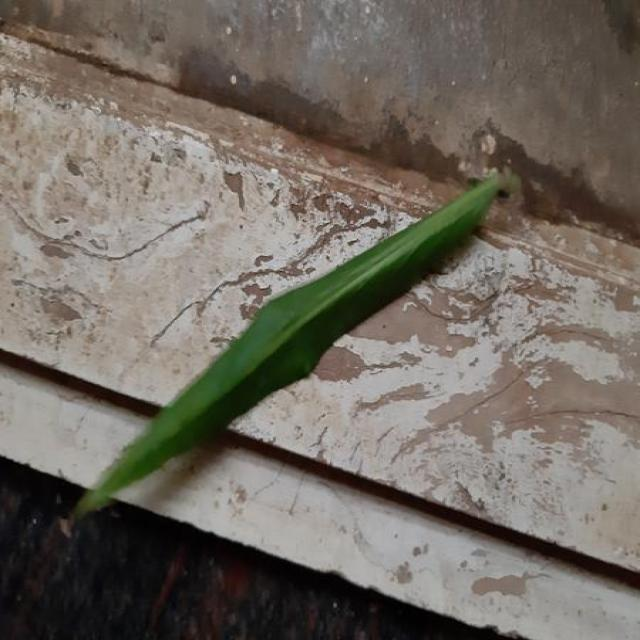ginger: (77, 172, 515, 516)
